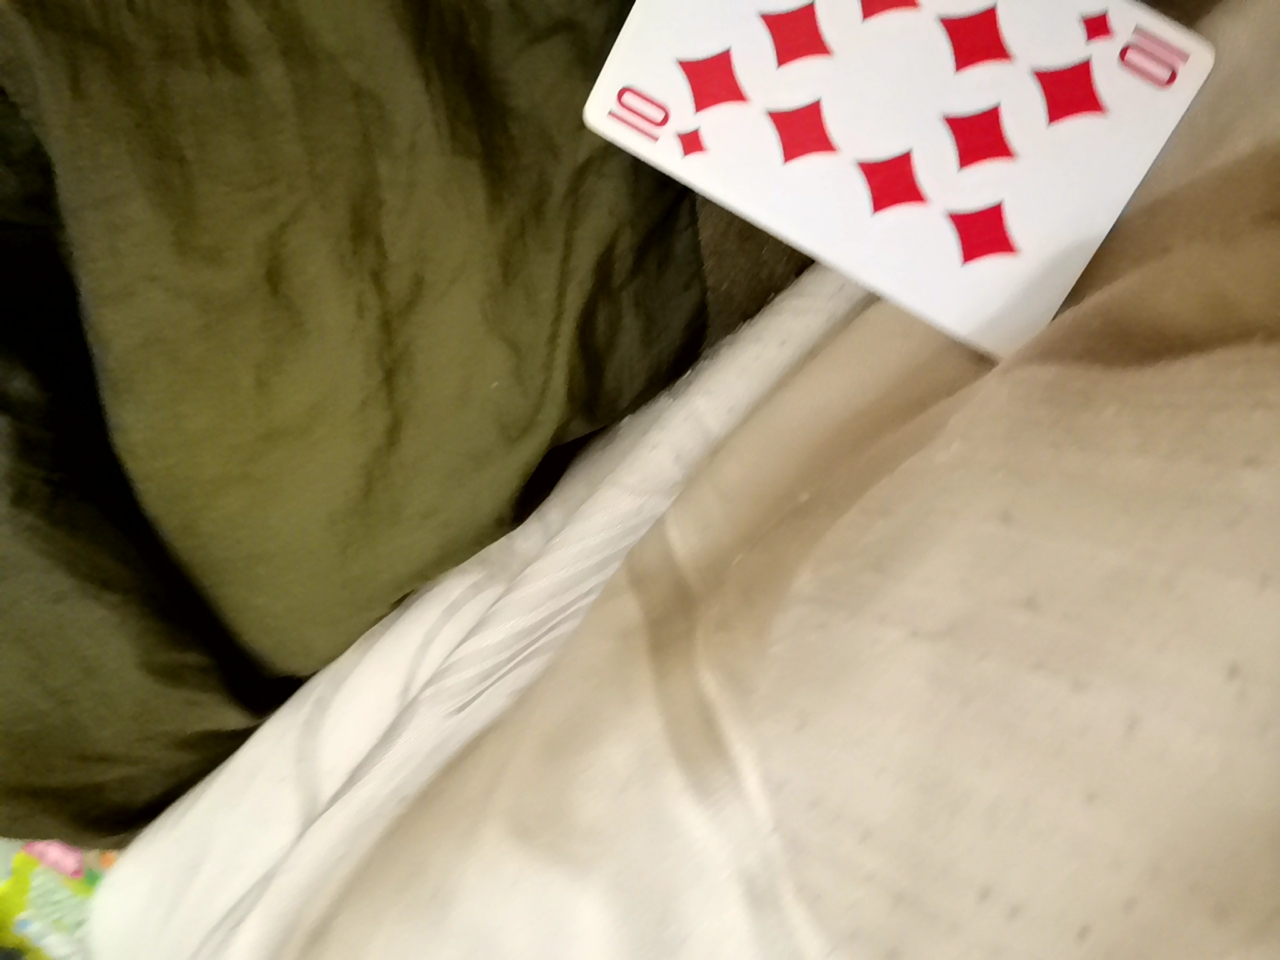fk 10: (548, 0, 1227, 297)
